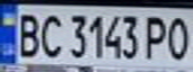1: (84, 11, 106, 58)
3: (63, 10, 87, 58), (121, 11, 142, 60)
4: (103, 11, 124, 60)
B: (12, 9, 42, 58)
C: (36, 10, 66, 58)
O: (163, 12, 193, 62)
P: (142, 11, 172, 61)
